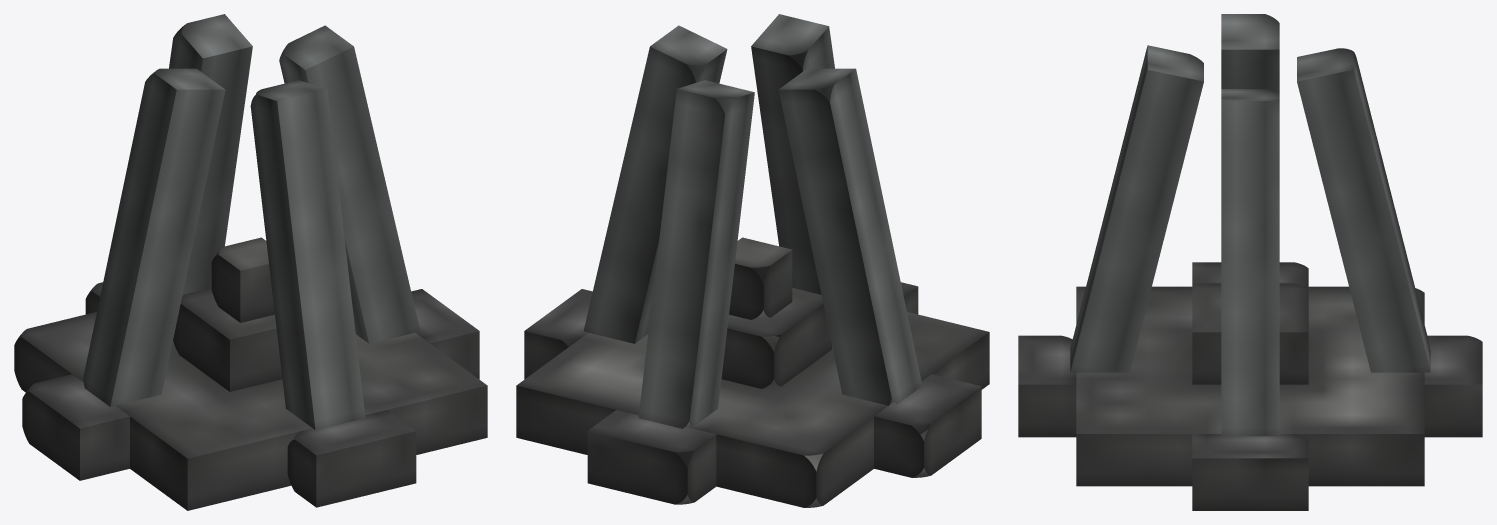
The model's file is modelroutingnodebase.obj.
The picture shows the model from 3 angles, left to right: view 1: azimuth 30°, elevation 25°; view 2: azimuth 150°, elevation 25°; view 3: azimuth 270°, elevation 25°; orthographic projection.
Parts seen in each view (by area): view 1: ModelRoutingNode; view 2: ModelRoutingNode; view 3: ModelRoutingNode.
Boxes of the visible parts, bbox=[...] form: ModelRoutingNode: bbox=[14, 14, 487, 510]; ModelRoutingNode: bbox=[516, 14, 989, 507]; ModelRoutingNode: bbox=[1018, 14, 1482, 510].
Size of the model in its own units: 0.5 by 0.4223 by 0.5.
